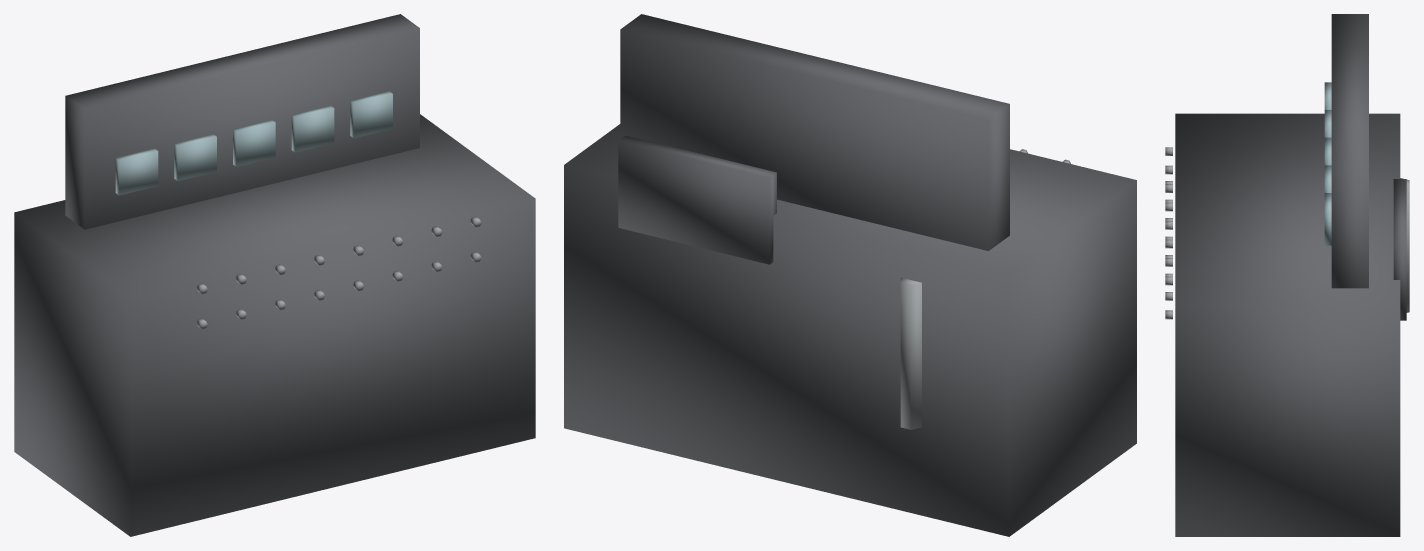
File: dispatch_console__service.glb
The picture shows the model from 3 angles, left to right: view 1: azimuth 30°, elevation 25°; view 2: azimuth 150°, elevation 25°; view 3: azimuth 270°, elevation 25°; orthographic projection. The views are drawn at different scales.
Visible parts, largest first — view 1: world; view 2: world; view 3: world.
Part boxes in pixels (x1,y1,x2,y2): world: (14,14,535,536); world: (564,14,1136,536); world: (1165,14,1409,536).
Bounding box in the file's own units: 1.45 × 1.23 × 0.7828.
